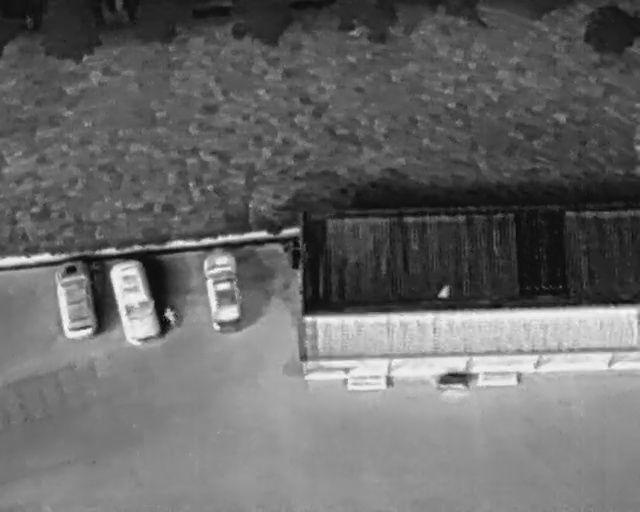Car: (105, 256, 165, 347), (202, 248, 249, 334), (53, 258, 101, 339)
Person: (165, 306, 175, 328)
